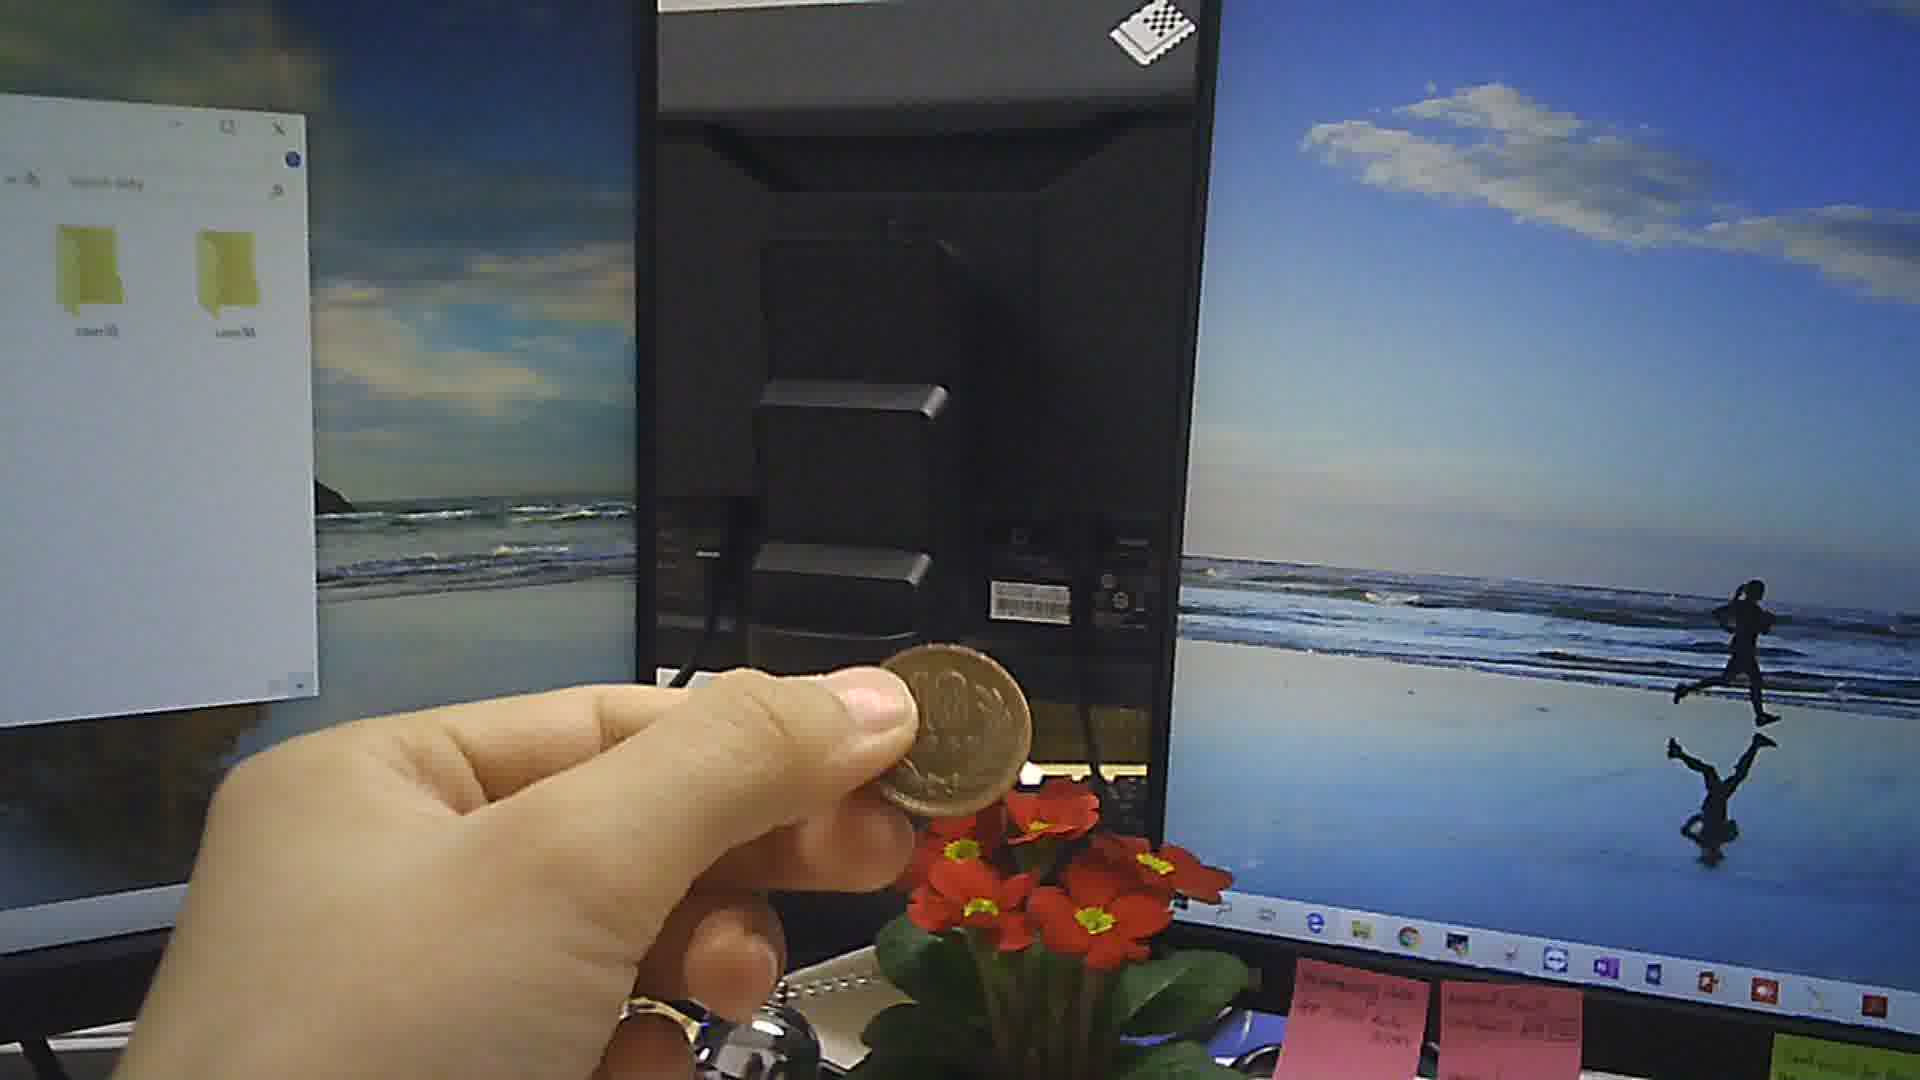10 Yen: (843, 642, 1033, 818)
